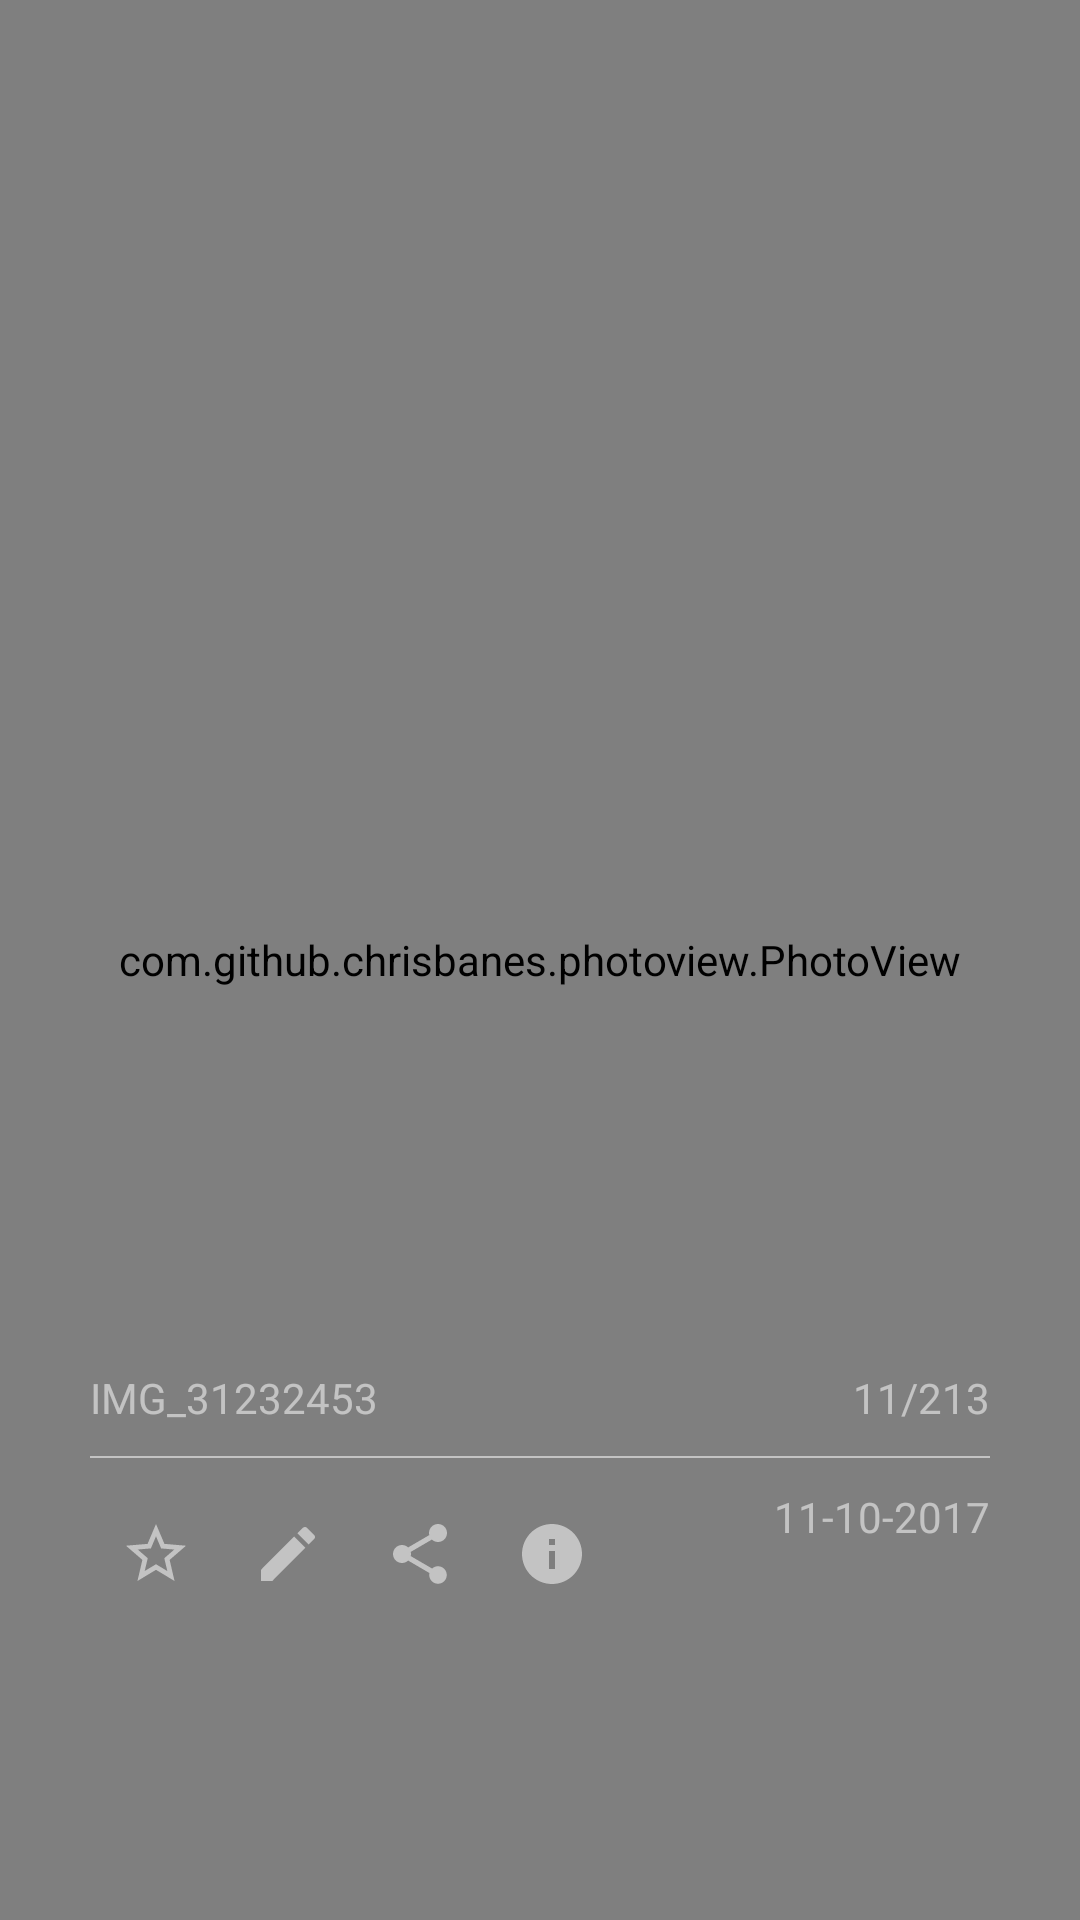

Named icons in this screenshot (1080px×1920px) and their bounding boxes, (x1, y1, x2, y2):
edit: (261, 1527, 315, 1581)
info: (522, 1524, 582, 1584)
share: (393, 1524, 447, 1584)
star: (127, 1525, 185, 1581)
